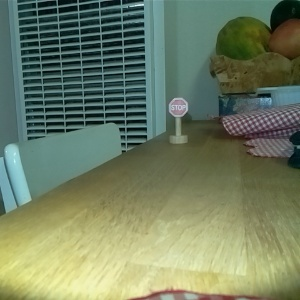stop sign: (165, 96, 191, 146)
